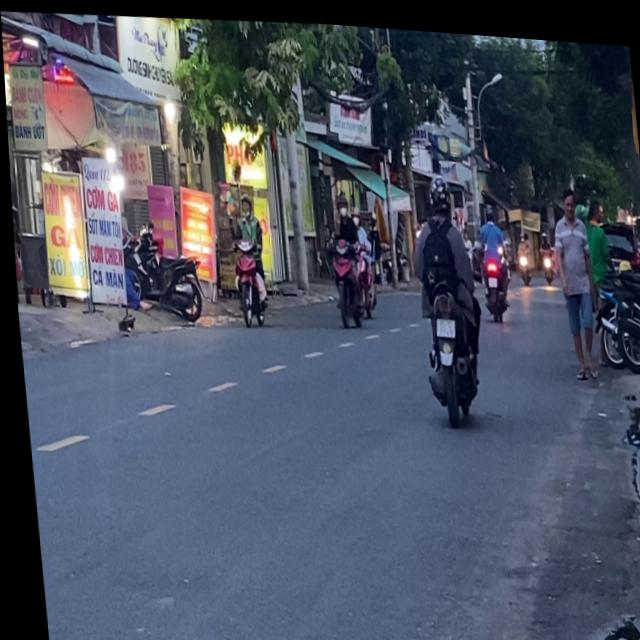helmet: (423, 166, 449, 213), (235, 187, 250, 214), (333, 186, 347, 210)
licenseplate: (403, 165, 485, 419), (318, 184, 374, 325), (221, 185, 268, 325)
nohelmet: (431, 310, 451, 330)
